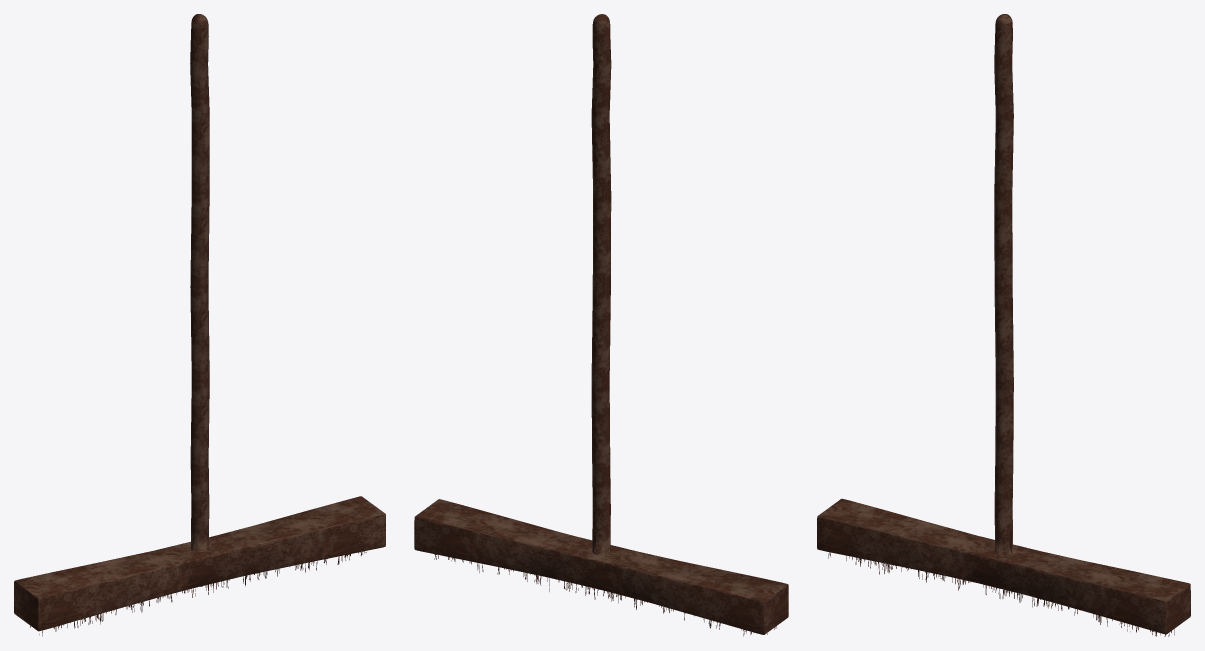
The model's file is Group proj - Sweeping Brush.fbx.
3 renders of one model, left to right at view 1: azimuth 30°, elevation 25°; view 2: azimuth 150°, elevation 25°; view 3: azimuth 330°, elevation 25°, orthographic.
Visible parts, largest first — view 1: Plane.112; view 2: Plane.112; view 3: Plane.112.
Part boxes in pixels (x1,y1,x2,y2): Plane.112: [14, 14, 385, 636]; Plane.112: [414, 14, 788, 636]; Plane.112: [817, 14, 1190, 636].
Bounding box in the file's own units: 394 × 627 × 48.04.
Materials: 3 (2 with a texture image).
